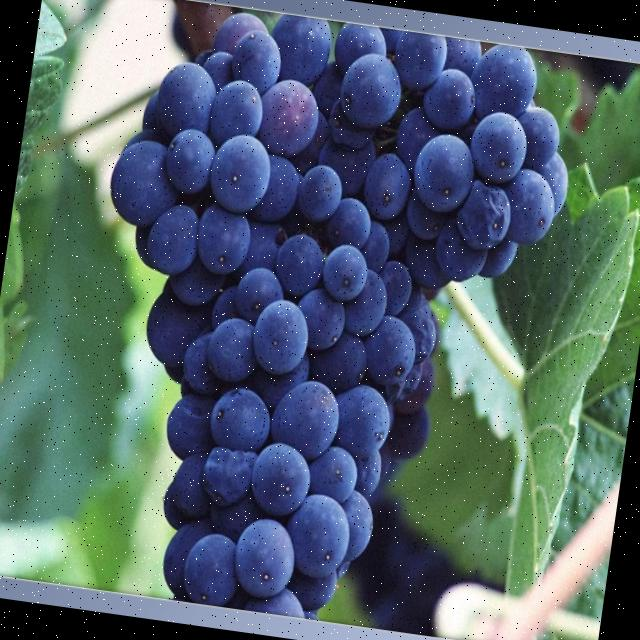grape: (111, 12, 566, 616)
